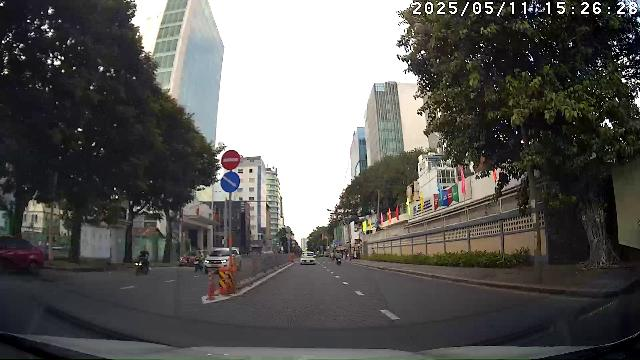102-cam-di-nguoc-chieu: (221, 150, 241, 170)
302a-huong-phai-di-vong-chuong-ngai-vat-1: (220, 172, 240, 192)
